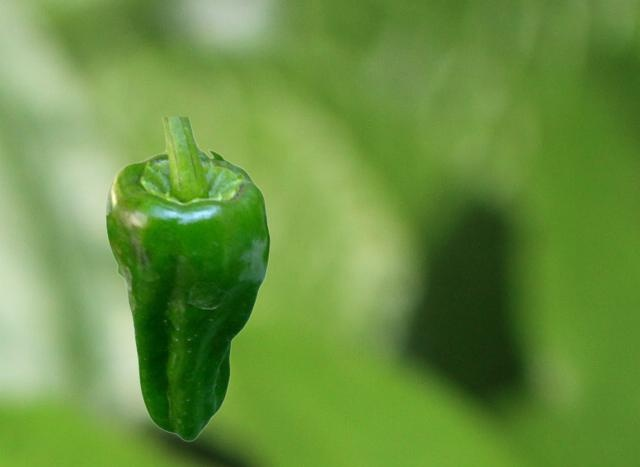bell_pepper: (104, 117, 270, 441)
